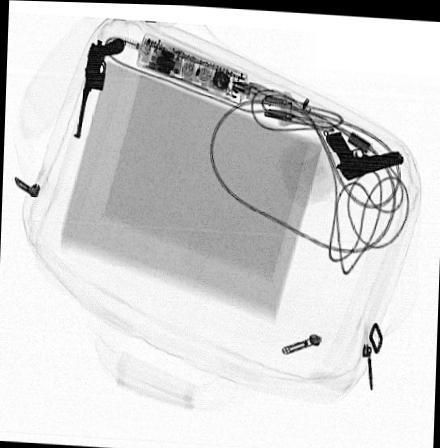Gun: (72, 36, 123, 136), (323, 128, 404, 178)
